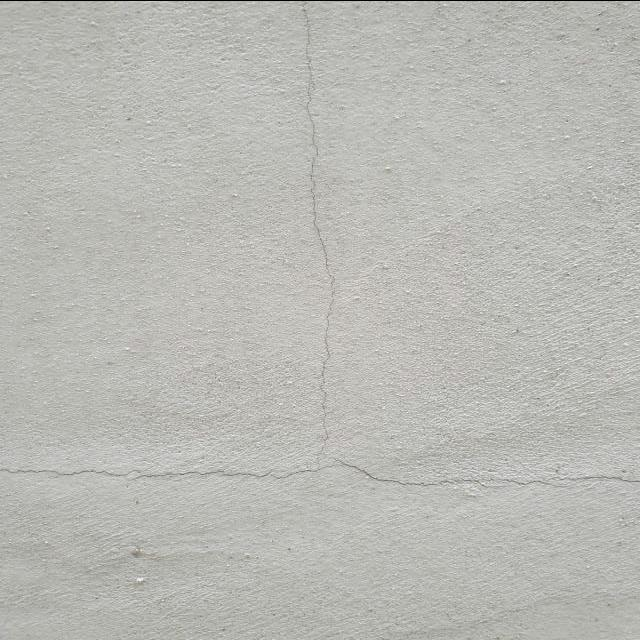SurfaceCrack: (0, 425, 326, 512), (323, 433, 640, 515)
